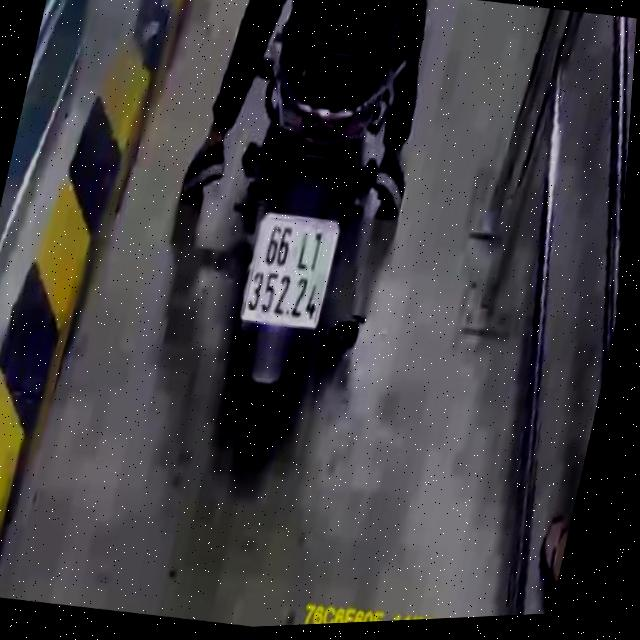motorcycle: (160, 0, 446, 476)
plate: (232, 203, 350, 340)
